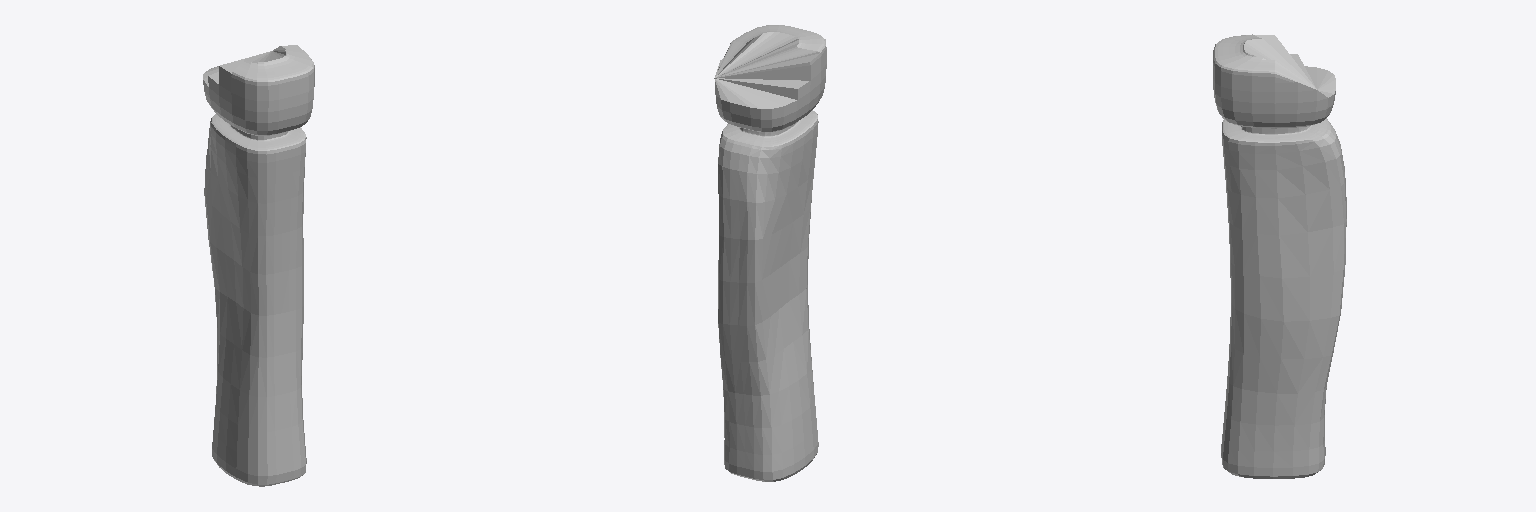
Rendered from Pierna Izquierda.obj.
3 renders of one model, left to right at view 1: azimuth 30°, elevation 25°; view 2: azimuth 150°, elevation 25°; view 3: azimuth 270°, elevation 25°, orthographic.
Visible parts, largest first — view 1: Cyborg.Mesh_Cube; view 2: Cyborg.Mesh_Cube; view 3: Cyborg.Mesh_Cube.
Boxes of the visible parts, <box> form: Cyborg.Mesh_Cube: <box>203,45,314,486</box>; Cyborg.Mesh_Cube: <box>714,25,826,481</box>; Cyborg.Mesh_Cube: <box>1213,34,1346,478</box>.
Bounding box in the file's own units: 0.5995 × 2.99 × 0.8693.